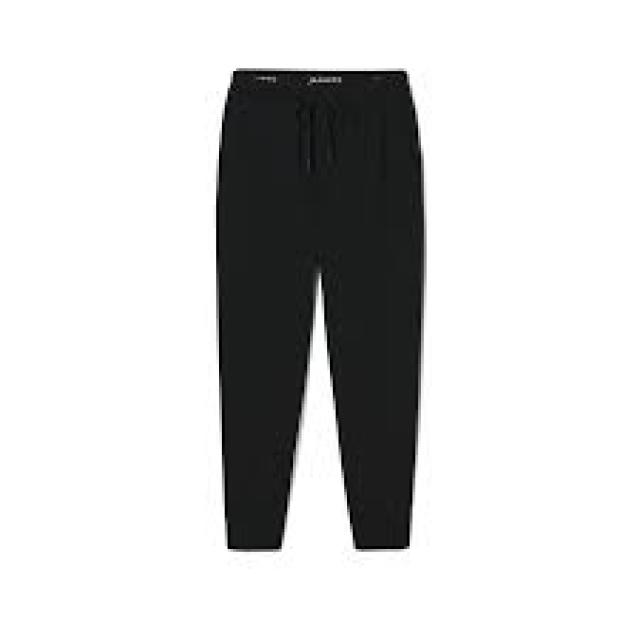pants: (205, 63, 427, 552)
